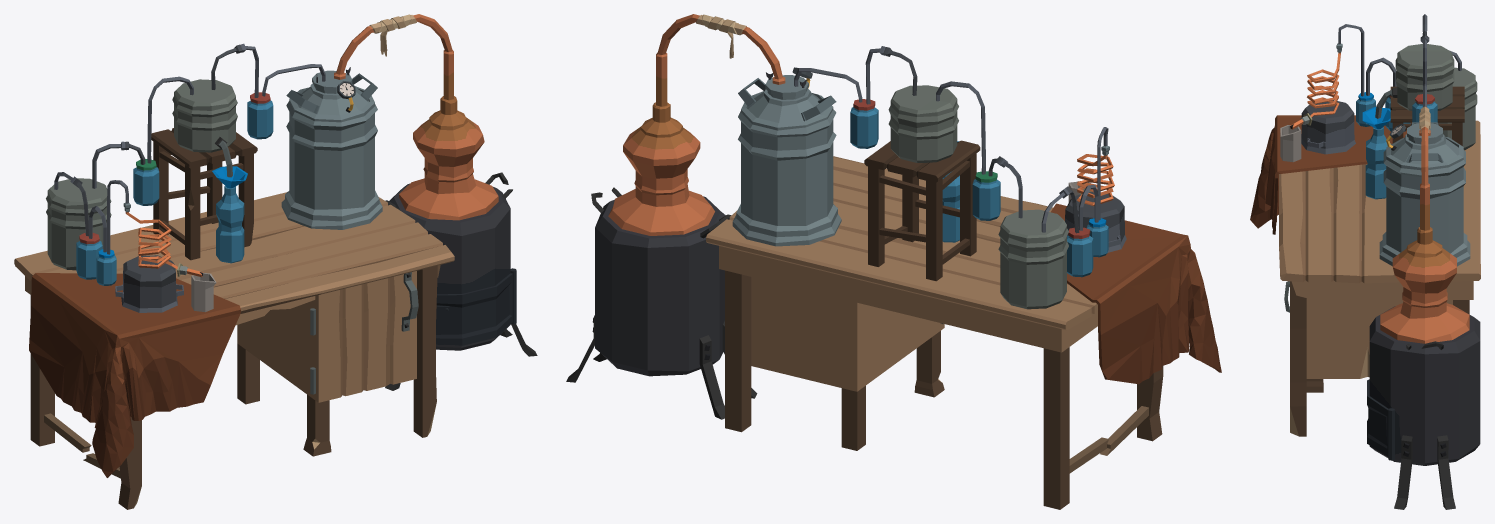
Rendered from SM_Alchemist's_Table.gltf.
3 views of the same model, side by side, from view 1: azimuth 30°, elevation 25°; view 2: azimuth 150°, elevation 25°; view 3: azimuth 270°, elevation 25° (orthographic). The views are drawn at different scales.
Parts seen in each view (by area): view 1: SM_Alchemist's_Table, SM_Alchemical_Apparatus, SM_Alchemist's_Table_Door_Table, SM_Alchemist's_Table_Stove, SM_Alchemical_Botle; view 2: SM_Alchemical_Apparatus, SM_Alchemist's_Table, SM_Alchemical_Botle; view 3: SM_Alchemical_Apparatus, SM_Alchemist's_Table, SM_Alchemical_Botle, SM_Alchemist's_Table_Stove.
Part boxes in pixels (left/top/right/bottom): SM_Alchemist's_Table: left=14, top=192, right=454, bottom=509; SM_Alchemical_Apparatus: left=46, top=14, right=537, bottom=390; SM_Alchemist's_Table_Door_Table: left=315, top=271, right=418, bottom=402; SM_Alchemist's_Table_Stove: left=436, top=268, right=516, bottom=345; SM_Alchemical_Botle: left=212, top=166, right=247, bottom=263; SM_Alchemical_Apparatus: left=566, top=14, right=1126, bottom=419; SM_Alchemist's_Table: left=706, top=156, right=1221, bottom=509; SM_Alchemical_Botle: left=942, top=141, right=959, bottom=242; SM_Alchemical_Apparatus: left=1280, top=14, right=1480, bottom=509; SM_Alchemist's_Table: left=1250, top=115, right=1480, bottom=436; SM_Alchemical_Botle: left=1362, top=107, right=1391, bottom=199; SM_Alchemist's_Table_Stove: left=1367, top=379, right=1394, bottom=460.
Bounding box in the file's own units: 3.14 × 2.17 × 1.32.
3 materials, 2 textured.
